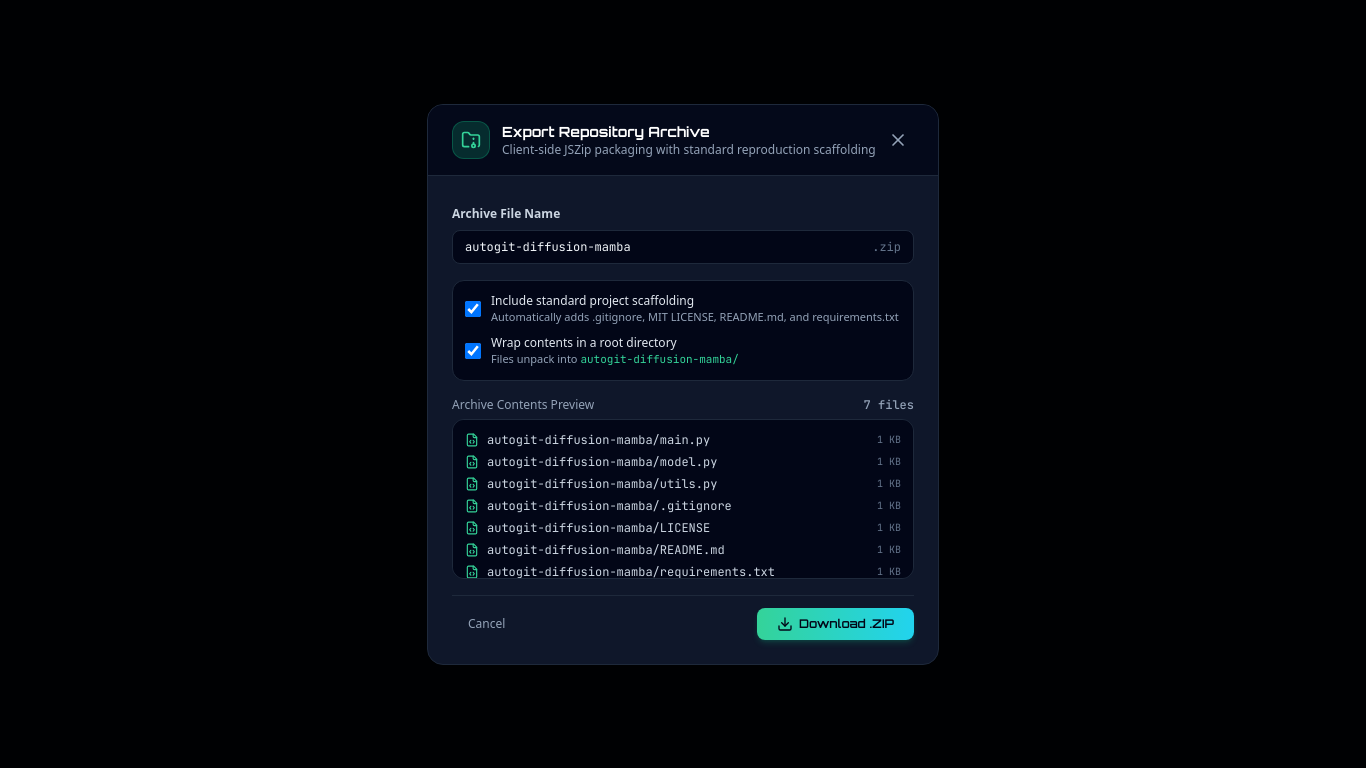
it: Milestone 4 Adversarial Stress Tests: GitHub Publisher & JSZip Exporter › Suite 4: Studio UI Components Stress & Error Presentation › 4.3: ZipExportModal dynamically recalculates file list when scaffolding is toggled
Check: the text "7 files" is shown, box [864,396,914,412]
# Uncheck scaffolding checkbox
Step 1. Click the checkbox labelled "Include standard project scaffolding" → (473, 309), box [465,301,481,317]
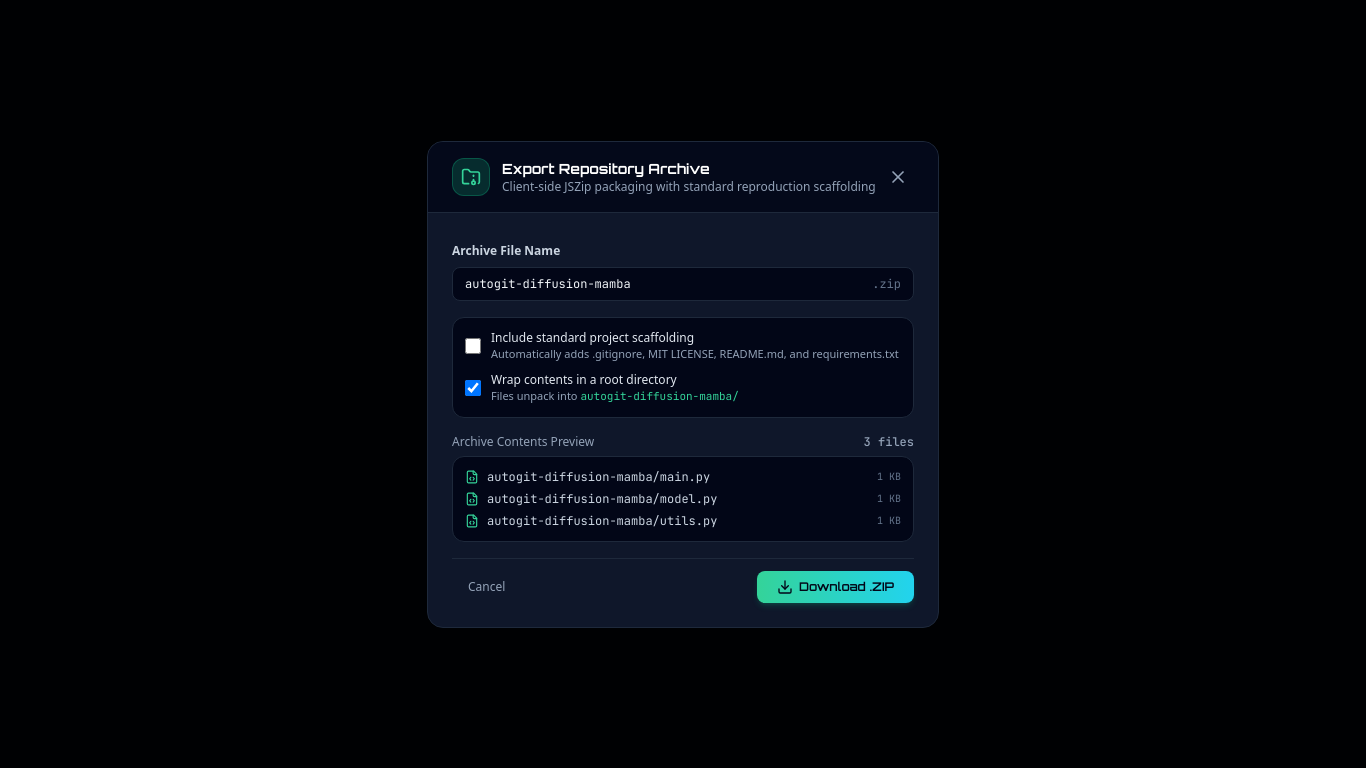
Check: the text "3 files" is shown, box [864,434,914,450]
